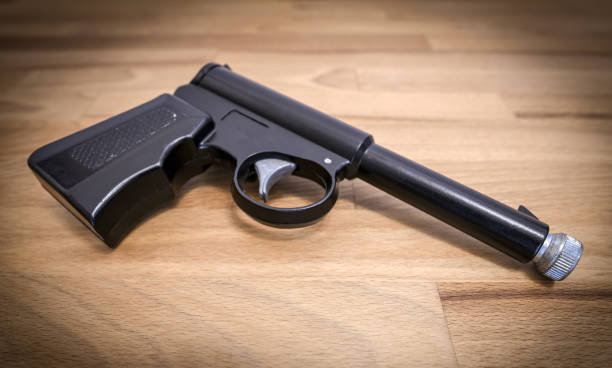gun: (25, 59, 584, 285)
